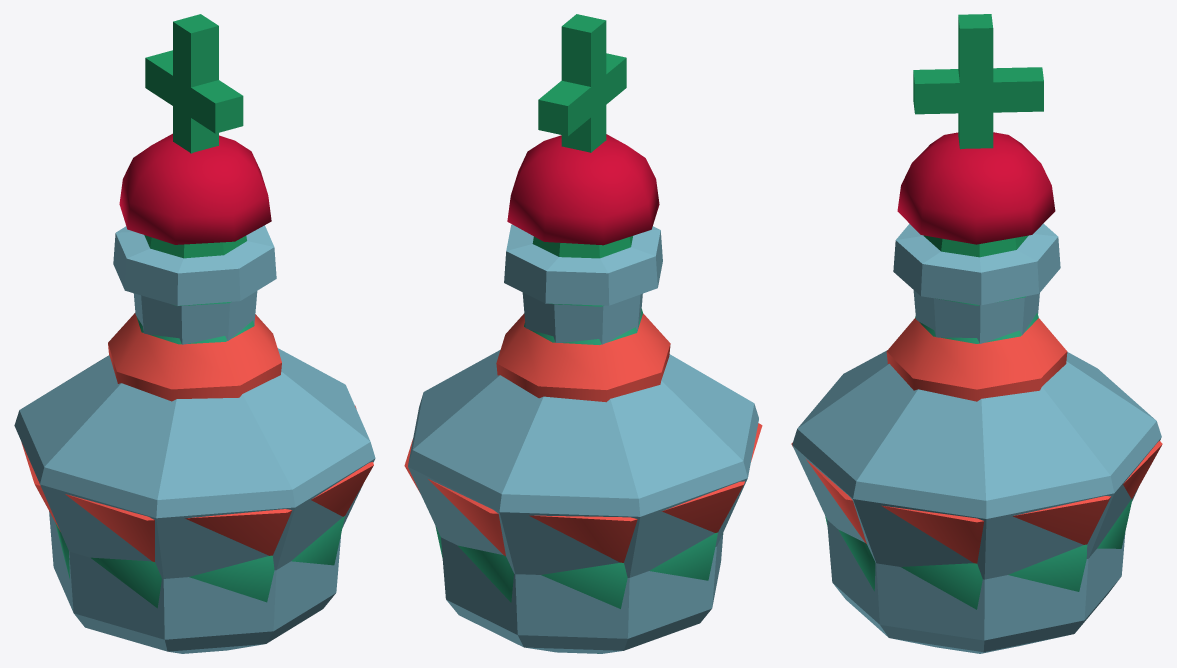
The model's file is Fiole_deau_benite.fbx.
The picture shows the model from 3 angles, left to right: view 1: azimuth 30°, elevation 25°; view 2: azimuth 150°, elevation 25°; view 3: azimuth 270°, elevation 25°; orthographic projection.
Parts seen in each view (by area): view 1: Fiole d'eau bénite, fiole nap'alm, Potion vitesse; view 2: Fiole d'eau bénite, fiole nap'alm, Potion vitesse; view 3: Fiole d'eau bénite, fiole nap'alm, Potion vitesse.
Part boxes in pixels (x1,y1,x2,y2): Fiole d'eau bénite: [14, 14, 375, 653]; fiole nap'alm: [21, 133, 373, 561]; Potion vitesse: [55, 301, 344, 608]; Fiole d'eau bénite: [408, 14, 758, 653]; fiole nap'alm: [404, 134, 762, 562]; Potion vitesse: [435, 303, 722, 653]; Fiole d'eau bénite: [792, 14, 1161, 653]; fiole nap'alm: [791, 132, 1162, 563]; Potion vitesse: [825, 296, 1132, 609].
Bounding box in the file's own units: 81.38 × 149 × 81.38.
